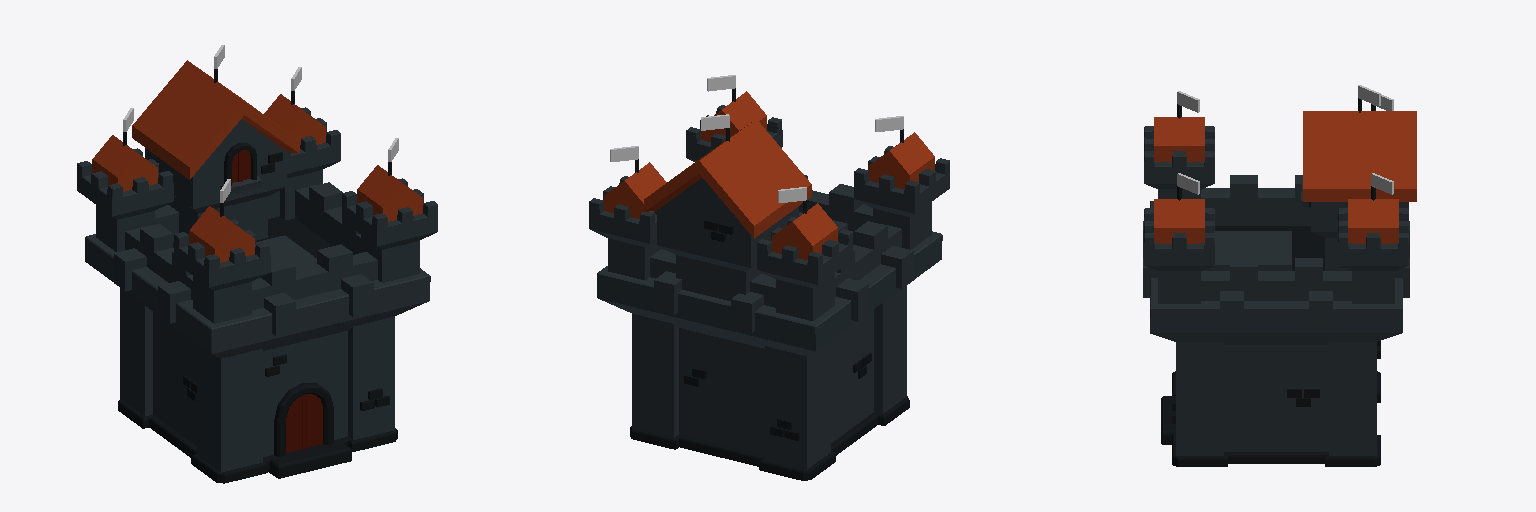
Rendered from castle.obj.
3 views of the same model, side by side, from view 1: azimuth 30°, elevation 25°; view 2: azimuth 150°, elevation 25°; view 3: azimuth 270°, elevation 25° (orthographic).
Visible parts, largest first — view 1: castle_Cube.402; view 2: castle_Cube.402; view 3: castle_Cube.402.
Boxes of the visible parts, x1=… form: castle_Cube.402: x1=77, y1=45, x2=437, y2=483; castle_Cube.402: x1=589, y1=75, x2=949, y2=480; castle_Cube.402: x1=1143, y1=85, x2=1416, y2=466.
Bounding box in the file's own units: 1.8 × 2.53 × 1.85.